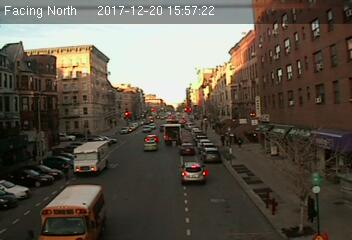car: (178, 160, 208, 186), (202, 148, 222, 163), (179, 142, 196, 157), (143, 138, 158, 152)
truck: (32, 183, 111, 240), (71, 141, 110, 174), (163, 123, 183, 146)
